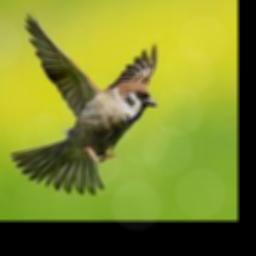Sparrow: (10, 10, 157, 195)
